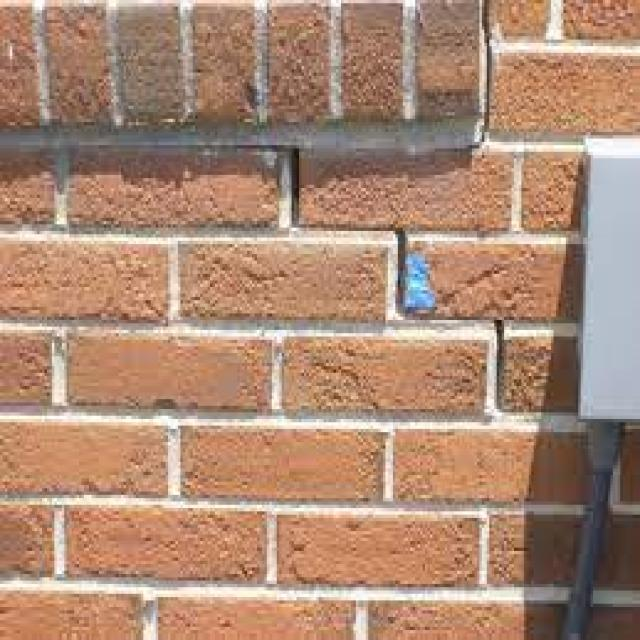Crack: (276, 138, 506, 412)
